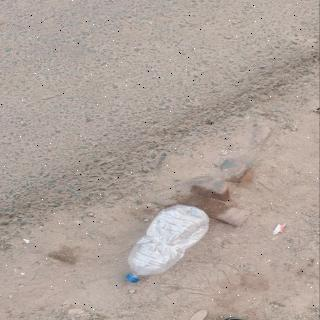Plastic-bottle: (122, 204, 215, 286)
